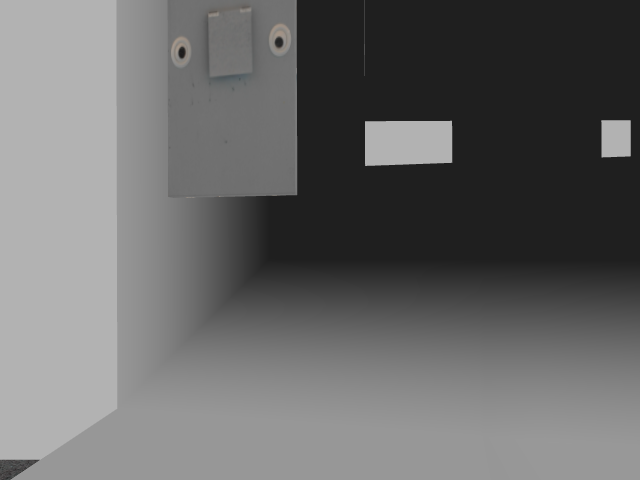facade: (170, 6, 290, 78)
